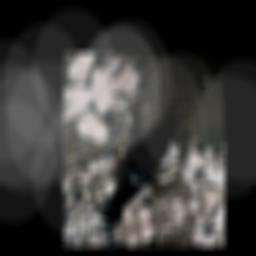Crow: (78, 65, 198, 234)
